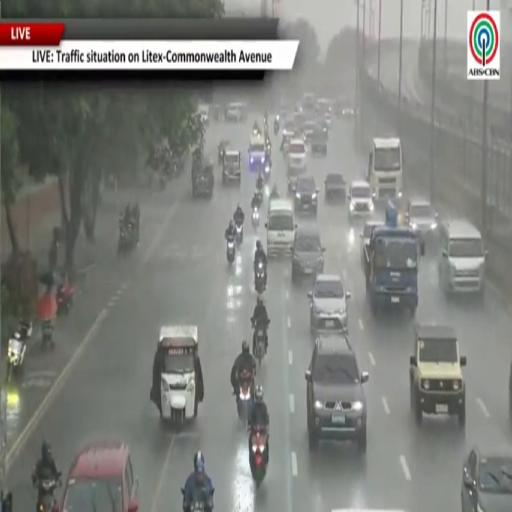car: (306, 334, 368, 453), (410, 325, 466, 426), (60, 441, 138, 511), (438, 220, 487, 298), (461, 445, 511, 511), (308, 274, 350, 333), (292, 226, 324, 282), (406, 200, 438, 239), (361, 220, 384, 263), (348, 181, 374, 219), (295, 176, 318, 216), (192, 158, 214, 198), (286, 138, 306, 177), (222, 150, 241, 184), (325, 173, 346, 202), (310, 127, 327, 154), (225, 103, 247, 122), (303, 120, 317, 141), (316, 98, 332, 115), (283, 119, 296, 138), (198, 104, 209, 125), (317, 118, 329, 136), (288, 176, 297, 195), (341, 107, 355, 117), (509, 362, 511, 422), (324, 112, 331, 129)
motorcycle: (249, 427, 267, 487), (34, 474, 60, 511), (7, 332, 26, 381), (237, 371, 254, 421), (253, 323, 269, 365), (184, 489, 214, 511), (117, 223, 136, 255), (56, 281, 74, 314), (255, 261, 267, 294), (42, 319, 54, 348), (226, 238, 236, 264), (254, 185, 264, 203), (236, 222, 243, 245), (252, 208, 259, 229), (159, 172, 167, 190), (264, 163, 270, 182), (274, 120, 279, 134)
truck: (363, 226, 424, 315), (367, 138, 402, 200)
